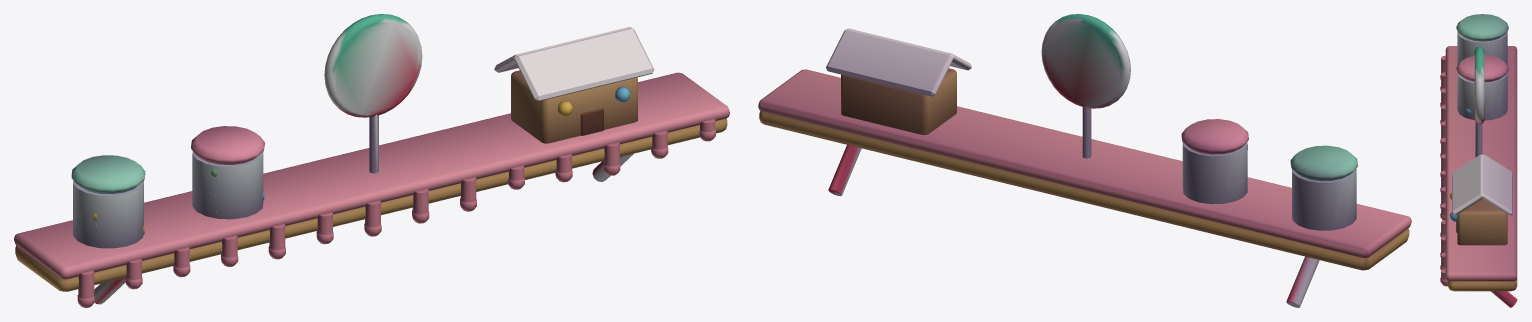
The model's file is shelf_candy.glb.
The picture shows the model from 3 angles, left to right: view 1: azimuth 30°, elevation 25°; view 2: azimuth 150°, elevation 25°; view 3: azimuth 270°, elevation 25°; orthographic projection. The views are drawn at different scales.
Visible parts, largest first — view 1: shelf_candy; view 2: shelf_candy; view 3: shelf_candy.
Part boxes in pixels (<box>): shelf_candy: <box>14,14,729,307</box>; shelf_candy: <box>758,14,1411,307</box>; shelf_candy: <box>1440,14,1517,307</box>.
Size of the model in its own units: 2.24 by 0.7777 by 0.318.
